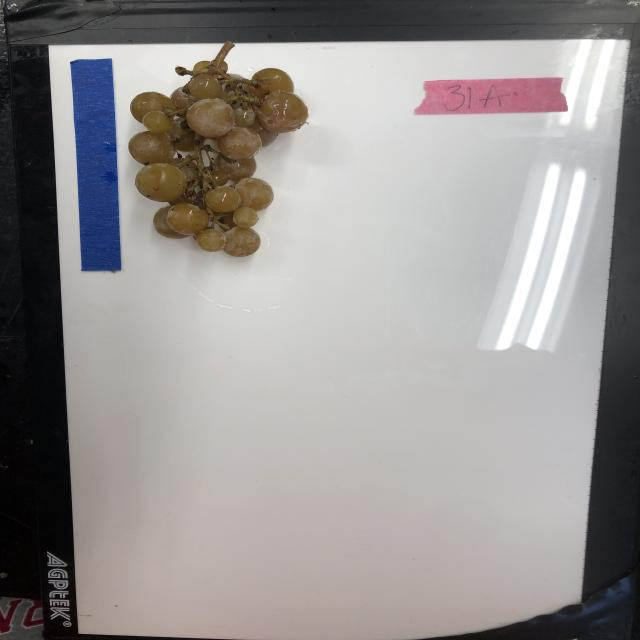grape_cluster: (129, 38, 311, 258)
index: (417, 76, 572, 119)
measure_label: (68, 56, 124, 272)
